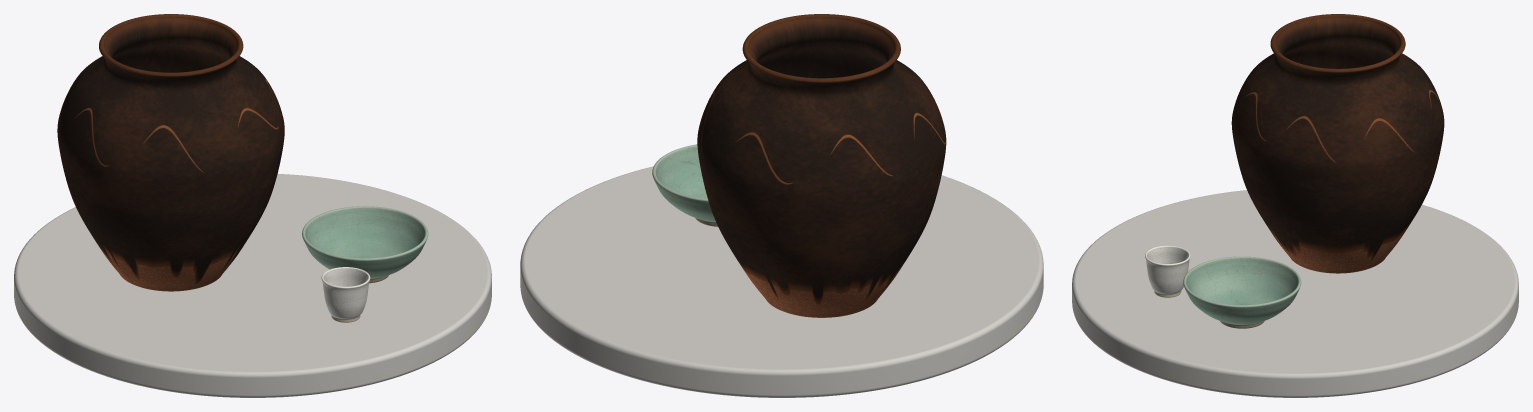
File: onggi-set.glb
3 renders of one model, left to right at view 1: azimuth 30°, elevation 25°; view 2: azimuth 150°, elevation 25°; view 3: azimuth 270°, elevation 25°, orthographic. The views are drawn at different scales.
Parts seen in each view (by area): view 1: plinth, jar, bowl, cup; view 2: plinth, jar, bowl; view 3: plinth, jar, bowl, cup.
Boxes of the visible parts, <box> form: plinth: <box>14,174,491,397</box>; jar: <box>57,14,284,291</box>; bowl: <box>302,206,428,283</box>; cup: <box>321,267,370,322</box>; plinth: <box>520,166,1043,397</box>; jar: <box>697,14,946,317</box>; bowl: <box>652,144,717,226</box>; plinth: <box>1072,190,1518,397</box>; jar: <box>1231,14,1444,273</box>; bowl: <box>1183,256,1301,328</box>; cup: <box>1145,245,1190,297</box>.
Bounding box in the file's own units: 0.84 × 0.4899 × 0.84.
Materials: 4 (3 with a texture image).
